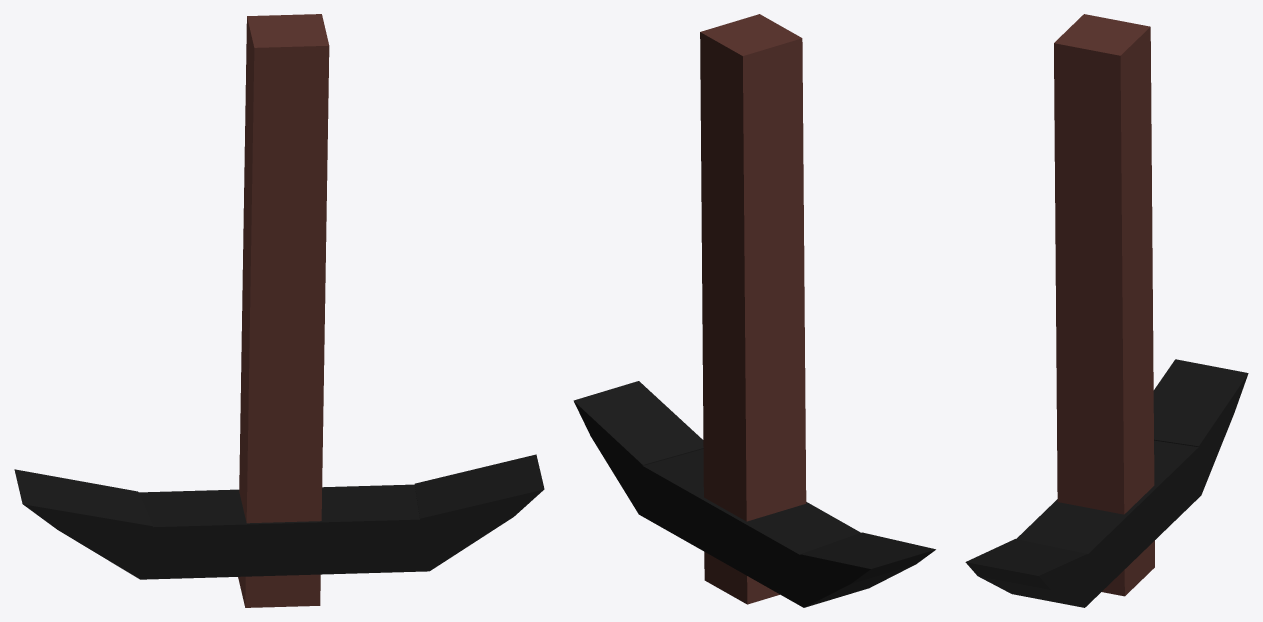
File: pickaxe.fbx
3 renders of one model, left to right at view 1: azimuth 30°, elevation 25°; view 2: azimuth 150°, elevation 25°; view 3: azimuth 270°, elevation 25°, orthographic. The views are drawn at different scales.
Parts seen in each view (by area): view 1: pickaxe.001; view 2: pickaxe.001; view 3: pickaxe.001.
Boxes of the visible parts, box(x1,y1,x2,y2) form: pickaxe.001: box(14, 14, 544, 607); pickaxe.001: box(573, 14, 935, 607); pickaxe.001: box(965, 14, 1248, 607).
Bounding box in the file's own units: 54.37 × 65.74 × 30.97.
